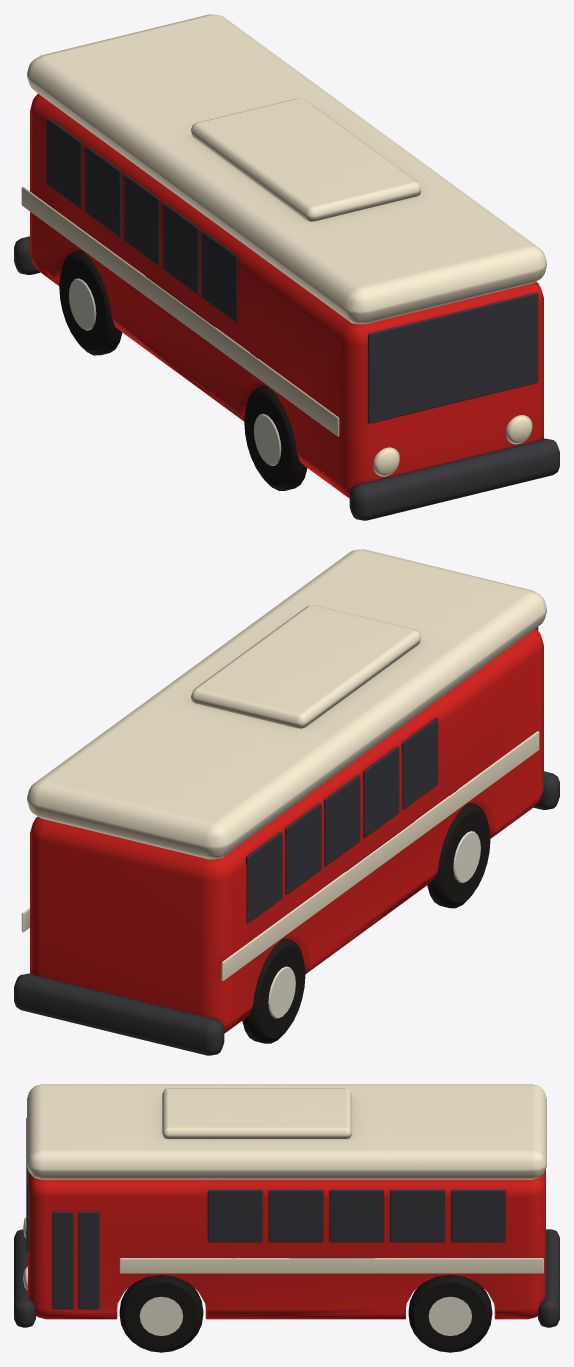
Rendered from bus.fbx.
3 renders of one model, top to bottom at view 1: azimuth 30°, elevation 25°; view 2: azimuth 150°, elevation 25°; view 3: azimuth 270°, elevation 25°, orthographic. The views are drawn at different scales.
Visible parts, largest first — view 1: bus; view 2: bus; view 3: bus.
Part boxes in pixels (box(x1,y1,x2,y2)): bus: box(14, 14, 559, 520); bus: box(14, 549, 559, 1055); bus: box(14, 1084, 559, 1352).
Size of the model in its own units: 903 by 1121 by 2660.
1 material, 1 textured.
